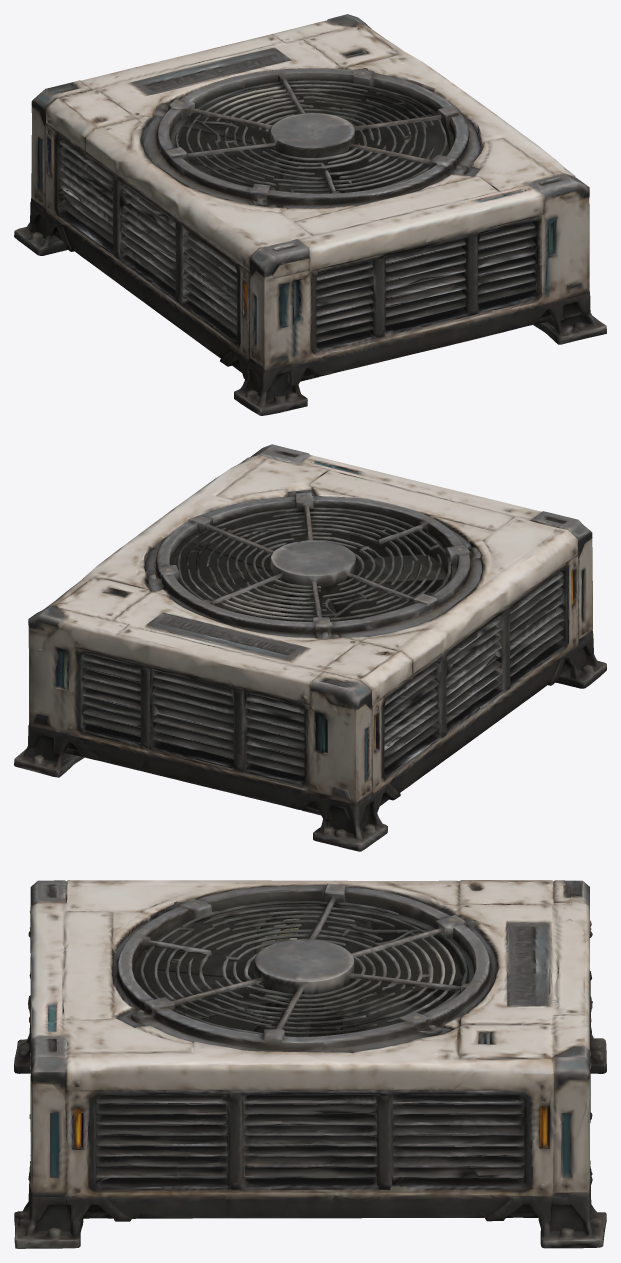
Rendered from kairox-ventilation-unit.glb.
3 views of the same model, one above another, from view 1: azimuth 30°, elevation 25°; view 2: azimuth 150°, elevation 25°; view 3: azimuth 270°, elevation 25° (orthographic). The views are drawn at different scales.
Visible parts, largest first — view 1: kairox-ventilation-unit; view 2: kairox-ventilation-unit; view 3: kairox-ventilation-unit.
Part boxes in pixels (x1,y1,x2,y2): kairox-ventilation-unit: [14, 14, 606, 415]; kairox-ventilation-unit: [14, 444, 606, 851]; kairox-ventilation-unit: [14, 880, 606, 1248].
Bounding box in the file's own units: 1.96 × 0.85 × 2.42.
Materials: 1 (1 with a texture image).
